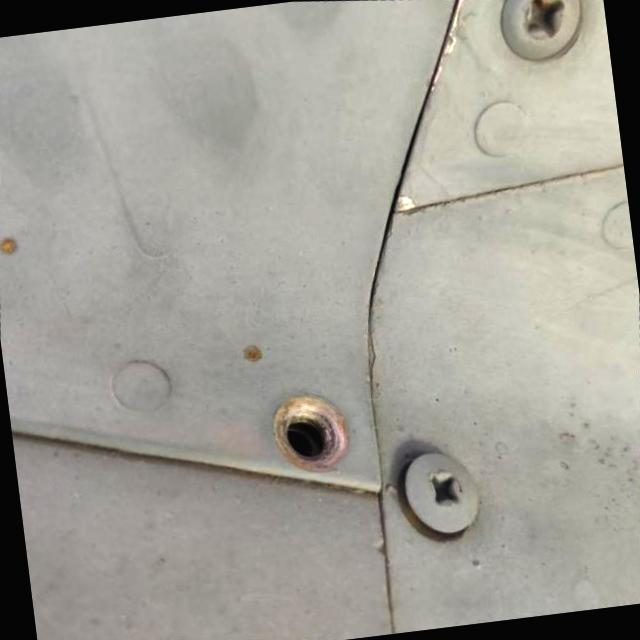Missing Fastener: (266, 386, 356, 480)
